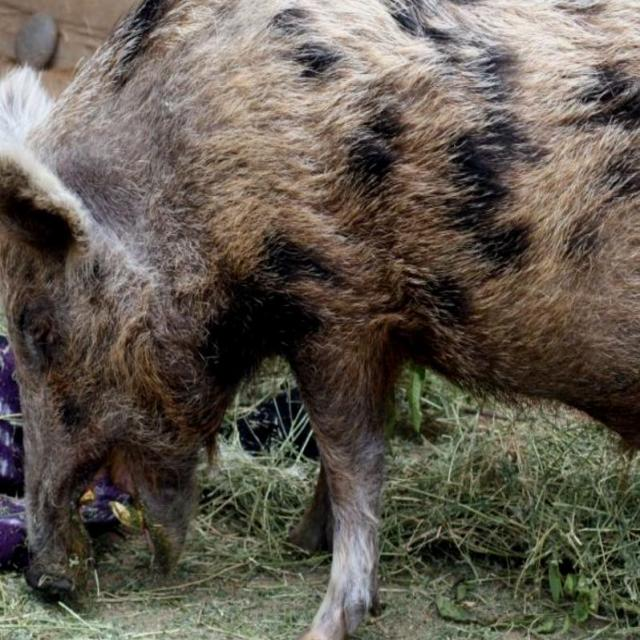pig: (0, 1, 640, 636)
